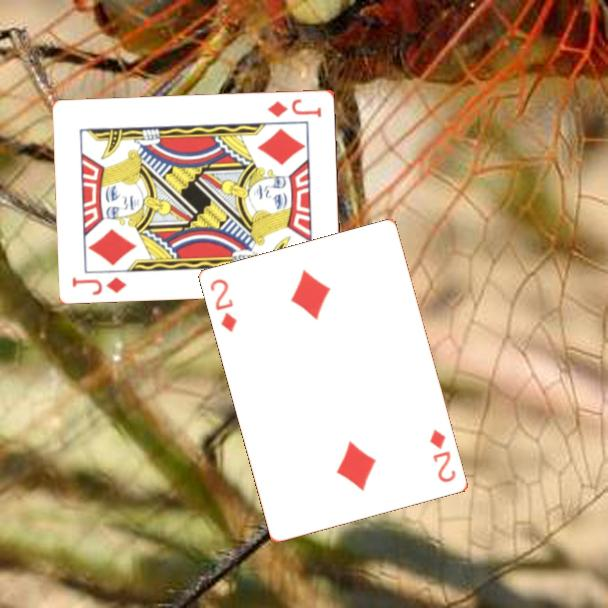d02: (207, 275, 240, 335), (427, 426, 459, 486)
d11: (264, 95, 325, 120), (69, 273, 130, 298)
